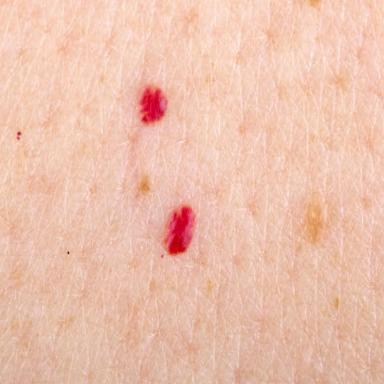Hemangiome: (163, 206, 195, 254), (139, 87, 167, 123)
